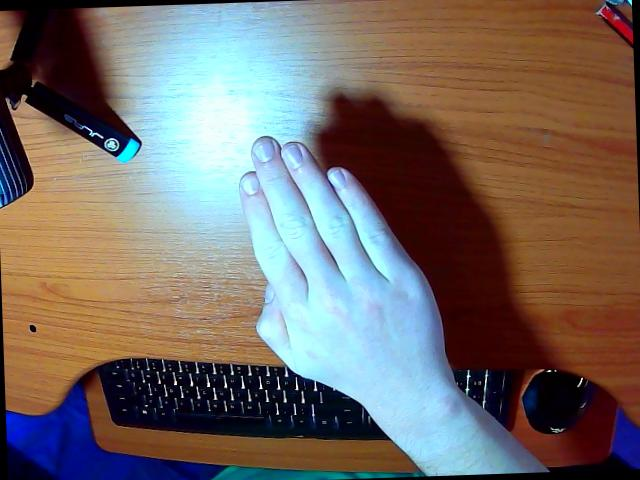paper: (239, 137, 546, 474)
